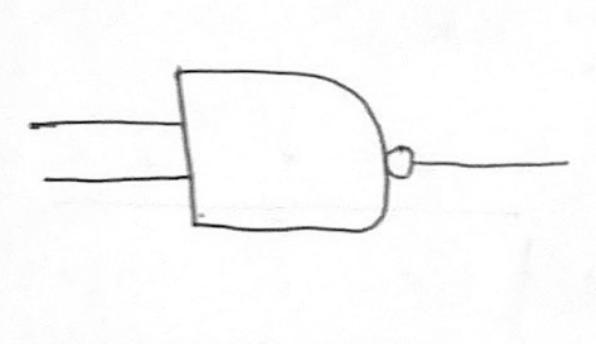NAND: (163, 49, 434, 269)
